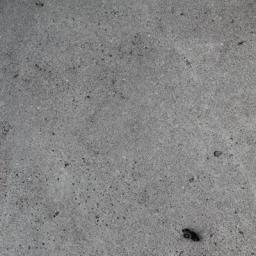FOD: (181, 226, 202, 245)
